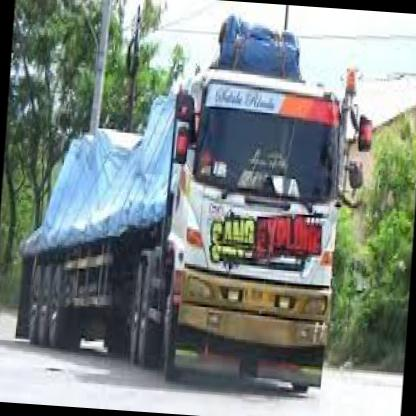truck: (157, 65, 352, 398)
